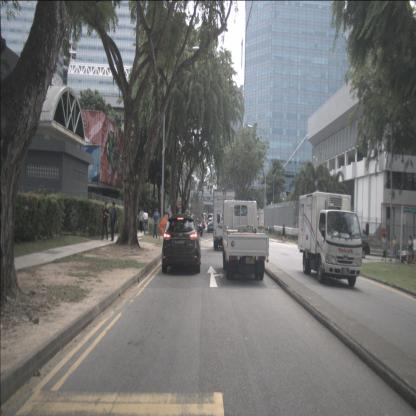human-pedestrian-adult: (108, 202, 118, 241), (101, 202, 109, 240), (389, 235, 397, 263), (405, 236, 413, 264), (152, 209, 159, 238), (382, 234, 388, 262), (143, 209, 148, 234), (412, 234, 416, 264), (139, 208, 144, 232), (282, 224, 285, 242)
vehicle-car: (162, 214, 201, 274), (341, 237, 370, 258), (396, 244, 415, 265), (191, 217, 203, 236), (207, 218, 216, 233), (208, 213, 212, 223), (207, 217, 211, 224)
vehicle-truck: (298, 191, 362, 286), (222, 200, 269, 280), (213, 189, 236, 251), (191, 201, 204, 233)
